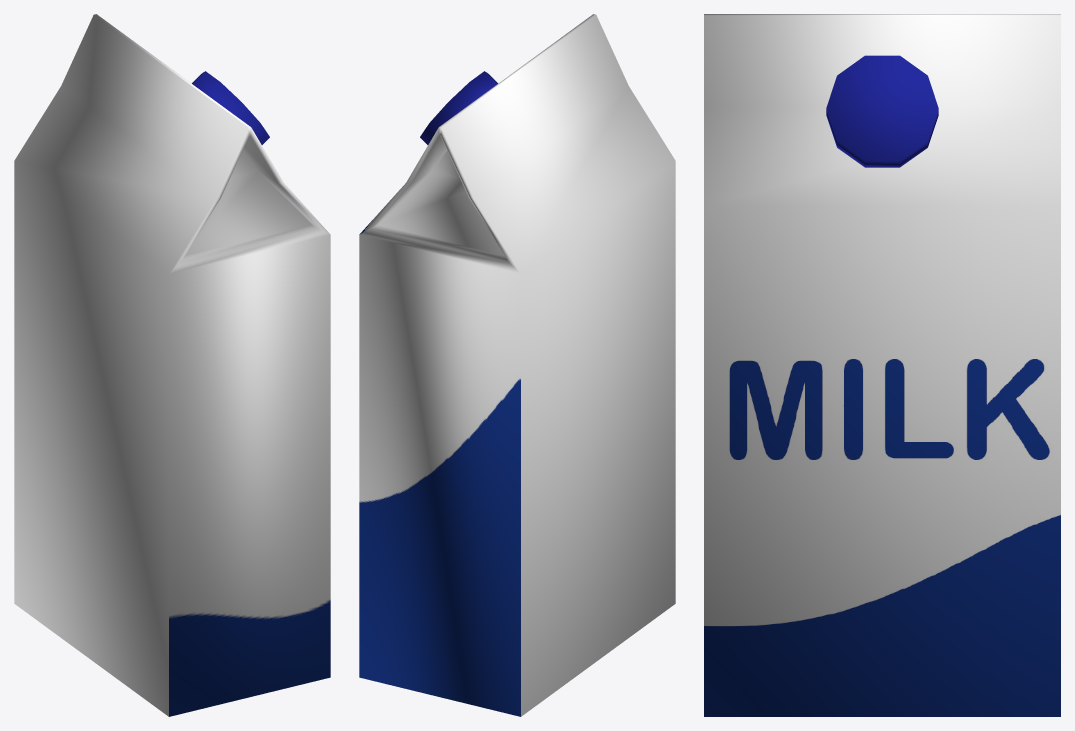
File: Supermarket_Run_Milk.fbx
The picture shows the model from 3 angles, left to right: view 1: azimuth 30°, elevation 25°; view 2: azimuth 150°, elevation 25°; view 3: azimuth 270°, elevation 25°; orthographic projection. The views are drawn at different scales.
Parts seen in each view (by area): view 1: Supermarket_Run_Milk_Box, Supermarket_Run_Milk_Box_Cap; view 2: Supermarket_Run_Milk_Box, Supermarket_Run_Milk_Box_Cap; view 3: Supermarket_Run_Milk_Box, Supermarket_Run_Milk_Box_Cap.
Part boxes in pixels (x1,y1,x2,y2): Supermarket_Run_Milk_Box: (14,14,330,716); Supermarket_Run_Milk_Box_Cap: (192,71,269,144); Supermarket_Run_Milk_Box: (359,14,675,716); Supermarket_Run_Milk_Box_Cap: (420,71,497,144); Supermarket_Run_Milk_Box: (704,14,1060,716); Supermarket_Run_Milk_Box_Cap: (826,55,938,167).
Bounding box in the file's own units: 36.84 × 120 × 58.86.
